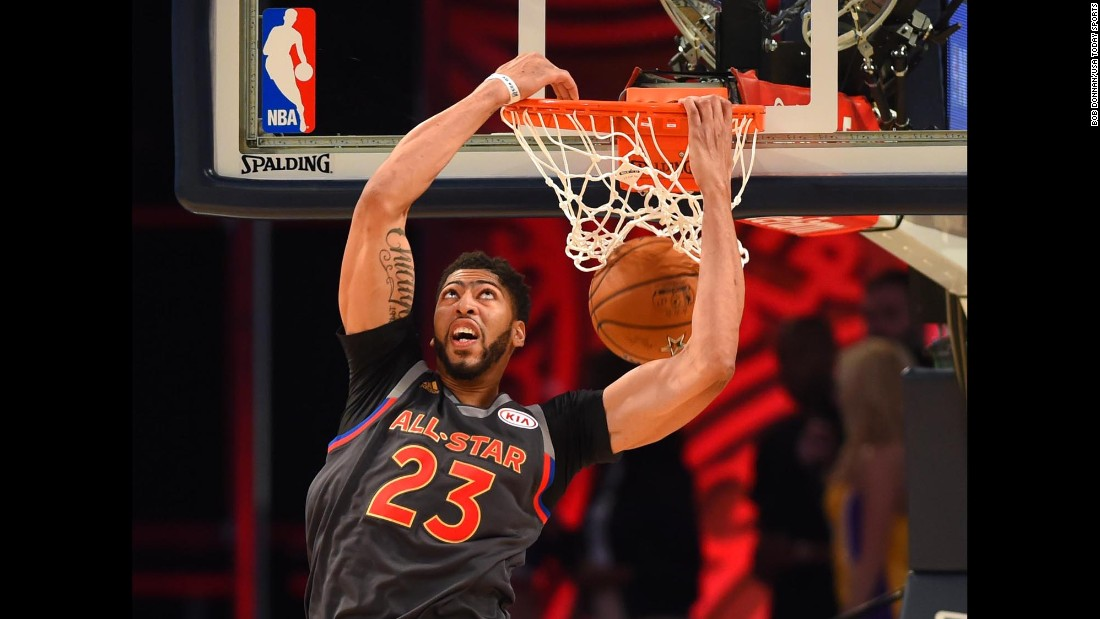ball: (586, 243, 698, 362)
player: (345, 181, 585, 619)
